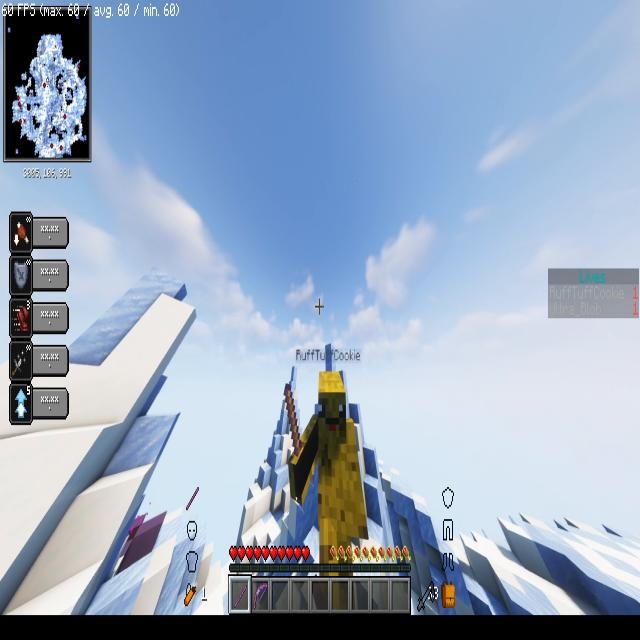Player: (274, 335, 392, 613)
